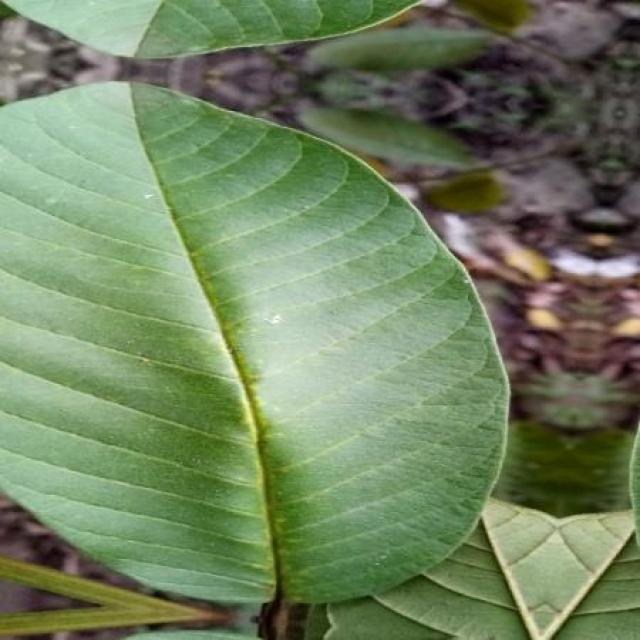Disease Free: (0, 84, 508, 604), (308, 422, 640, 640), (5, 1, 418, 57)
